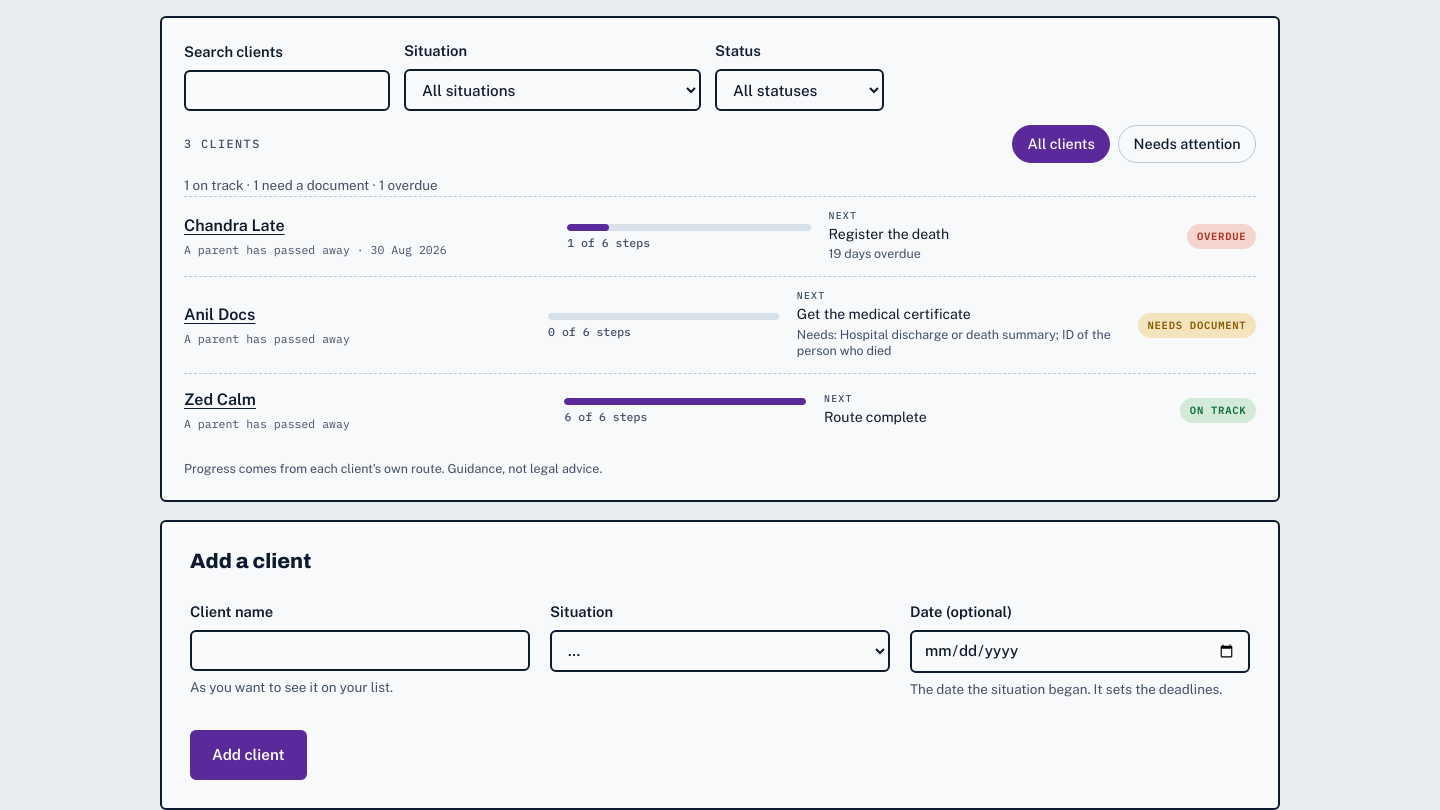
Test: Pro: the dashboard › shows why a client could not be added
(page scrolled)
Expected: the text "Chandra Late" is shown, x1=184 y1=216 x2=285 y2=235
Type "Nisha Rao" into the field labelled "Client name" at (360, 650), box x1=190 y1=630 x2=530 y2=671
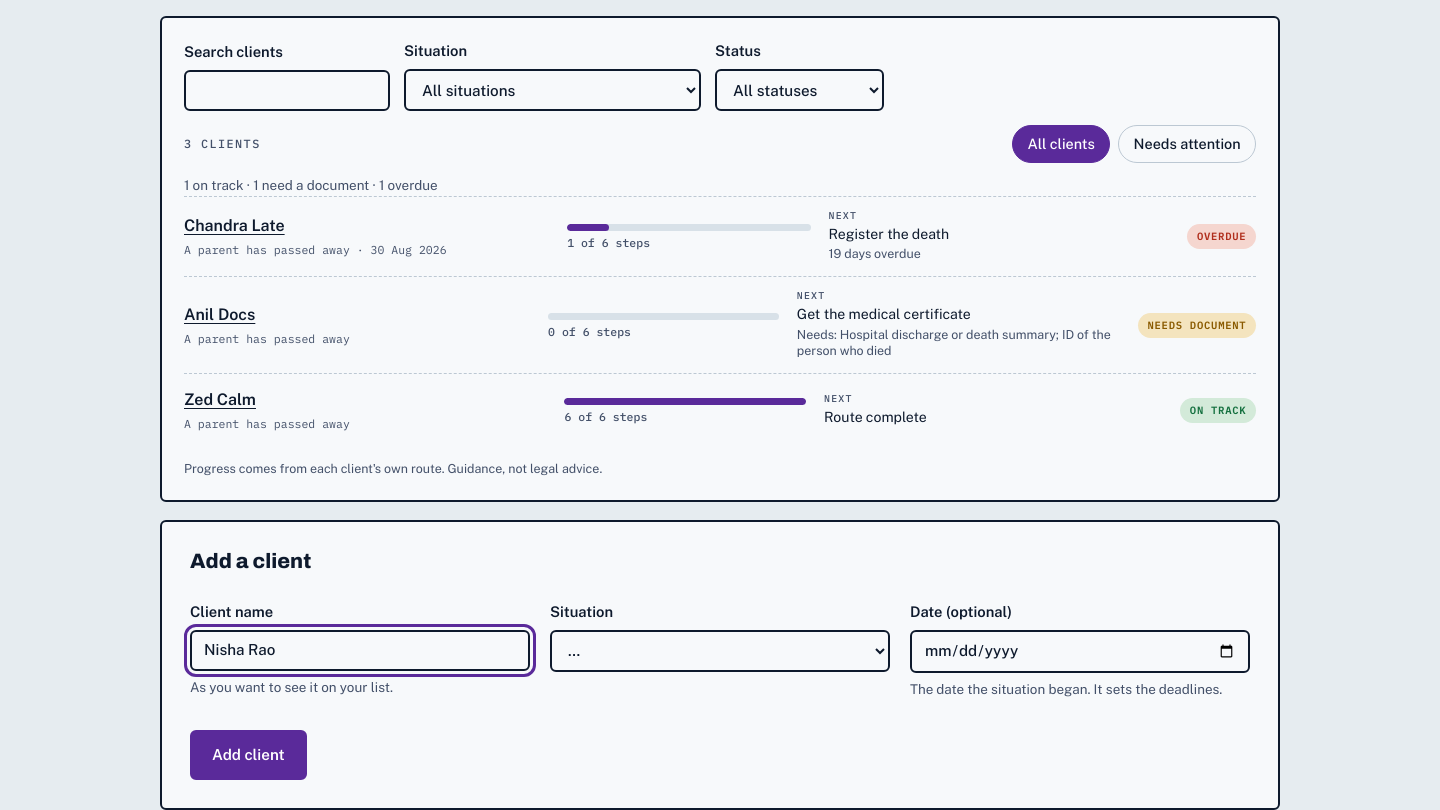
Select "A parent has passed away" in the dropdown labelled "Situation" below "Date (optional)" at (720, 651), box x1=550 y1=630 x2=890 y2=672
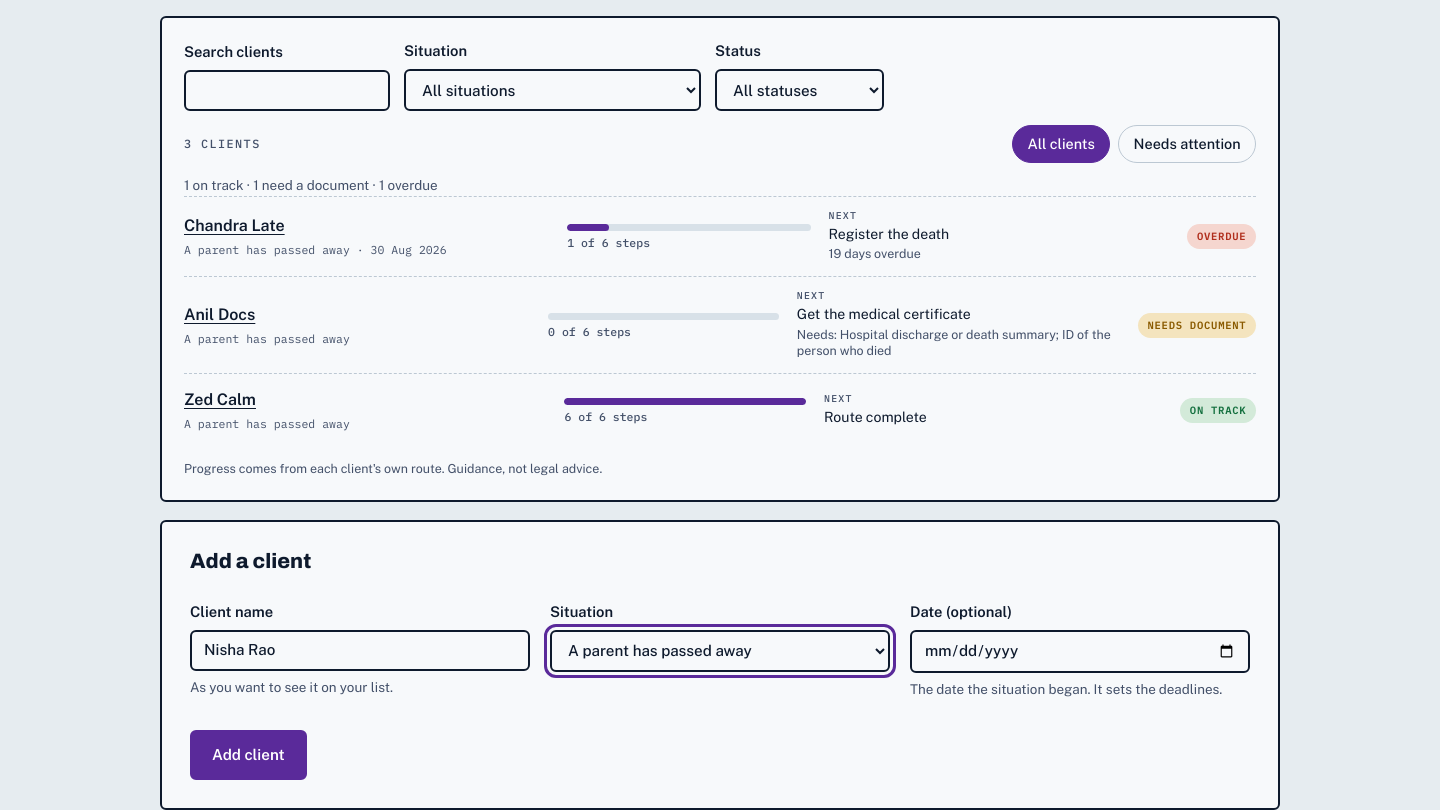
Click the button "Add client" at (248, 755), box x1=190 y1=730 x2=307 y2=780
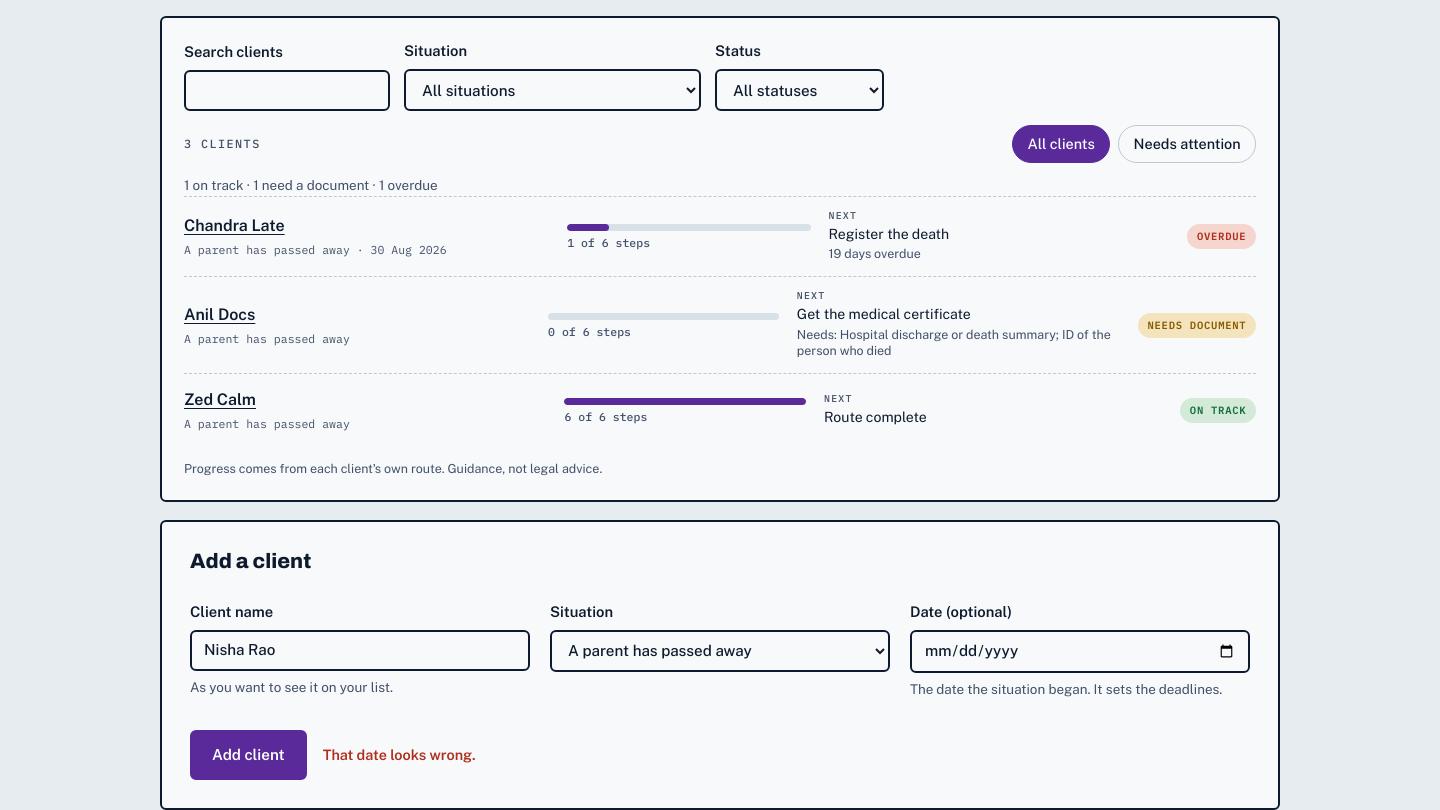
Expected: the text "That date looks wrong." is shown, x1=323 y1=744 x2=476 y2=766
